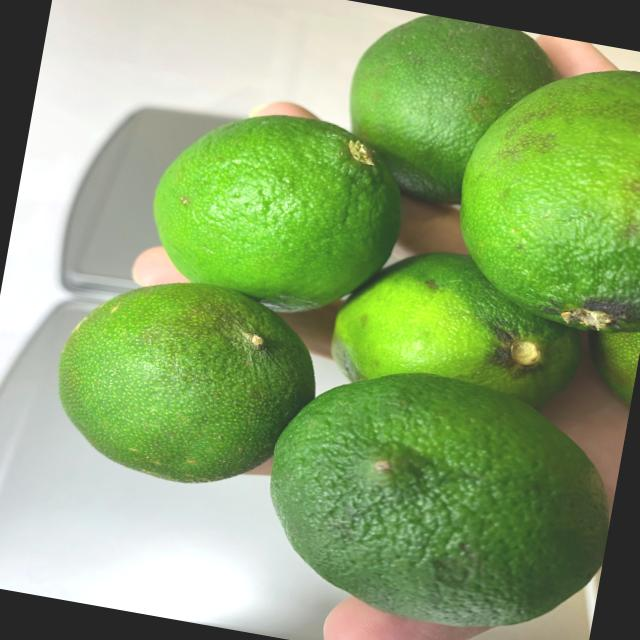lemon: (16, 0, 640, 640)
